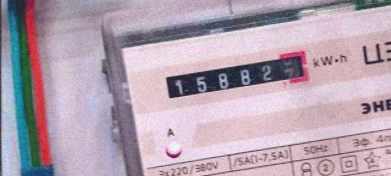1: (173, 77, 185, 96)
2: (259, 63, 273, 81)
5: (193, 74, 207, 93)
7: (282, 66, 295, 80)
8: (216, 70, 229, 89), (239, 68, 251, 85)
screen: (157, 46, 315, 104)
